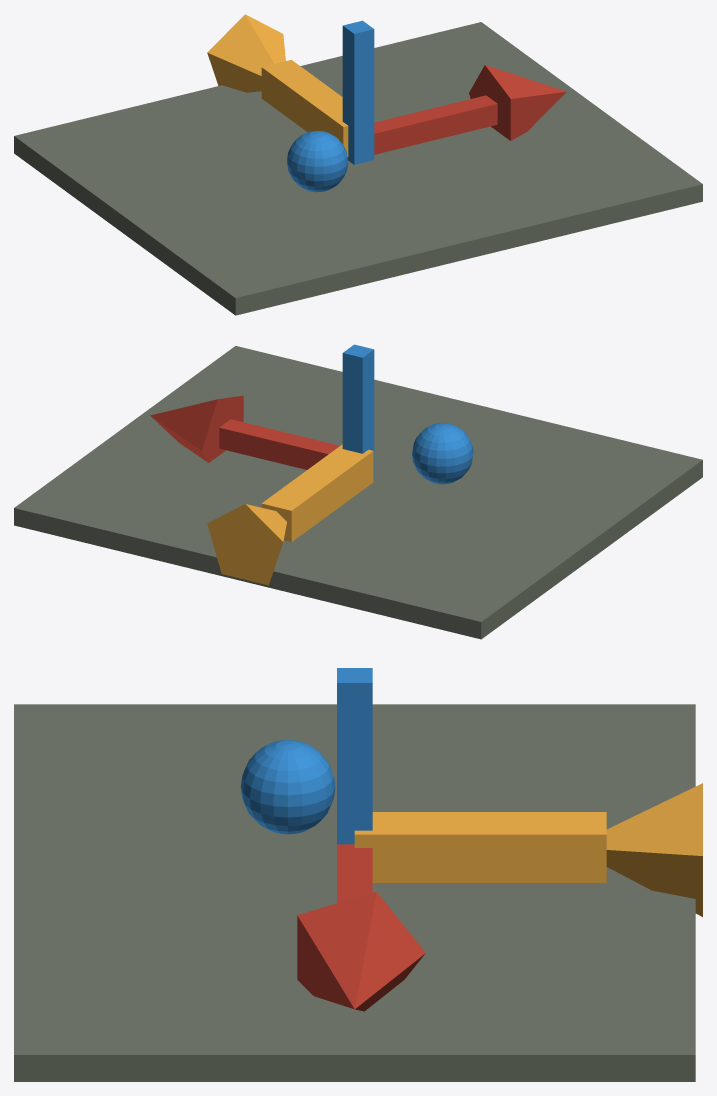
The model's file is axis-marker.glb.
3 views of the same model, one above another, from view 1: azimuth 30°, elevation 25°; view 2: azimuth 150°, elevation 25°; view 3: azimuth 270°, elevation 25° (orthographic). The views are drawn at different scales.
Parts seen in each view (by area): view 1: Ground, Axis_Y, Front_Z, Axis_X, Positive_Z_Front, Positive_X_Arrow, Asymmetry_Marker; view 2: Ground, Front_Z, Positive_Z_Front, Axis_Y, Axis_X, Positive_X_Arrow, Asymmetry_Marker; view 3: Ground, Front_Z, Positive_X_Arrow, Positive_Z_Front, Asymmetry_Marker, Axis_Y, Axis_X.
Boxes of the visible parts, box(x1,y1,x2,y2) form: Ground: box(14, 22, 702, 315); Axis_Y: box(342, 20, 374, 164); Front_Z: box(261, 60, 348, 156); Axis_X: box(374, 95, 497, 154); Positive_Z_Front: box(207, 14, 285, 92); Positive_X_Arrow: box(469, 65, 566, 140); Asymmetry_Marker: box(287, 131, 348, 192); Ground: box(14, 346, 702, 639); Front_Z: box(261, 444, 373, 542); Positive_Z_Front: box(207, 504, 286, 585); Axis_Y: box(342, 344, 374, 480); Axis_X: box(219, 419, 339, 469); Positive_X_Arrow: box(150, 395, 243, 462); Asymmetry_Marker: box(412, 423, 473, 484); Ground: box(14, 704, 695, 1081); Front_Z: box(354, 812, 606, 882); Positive_X_Arrow: box(297, 891, 425, 1011); Positive_Z_Front: box(606, 783, 702, 916); Asymmetry_Marker: box(240, 740, 335, 834); Axis_Y: box(337, 668, 372, 844); Axis_X: box(337, 844, 372, 903).
Size of the model in its own units: 5.6 by 1.78 by 4.65.
